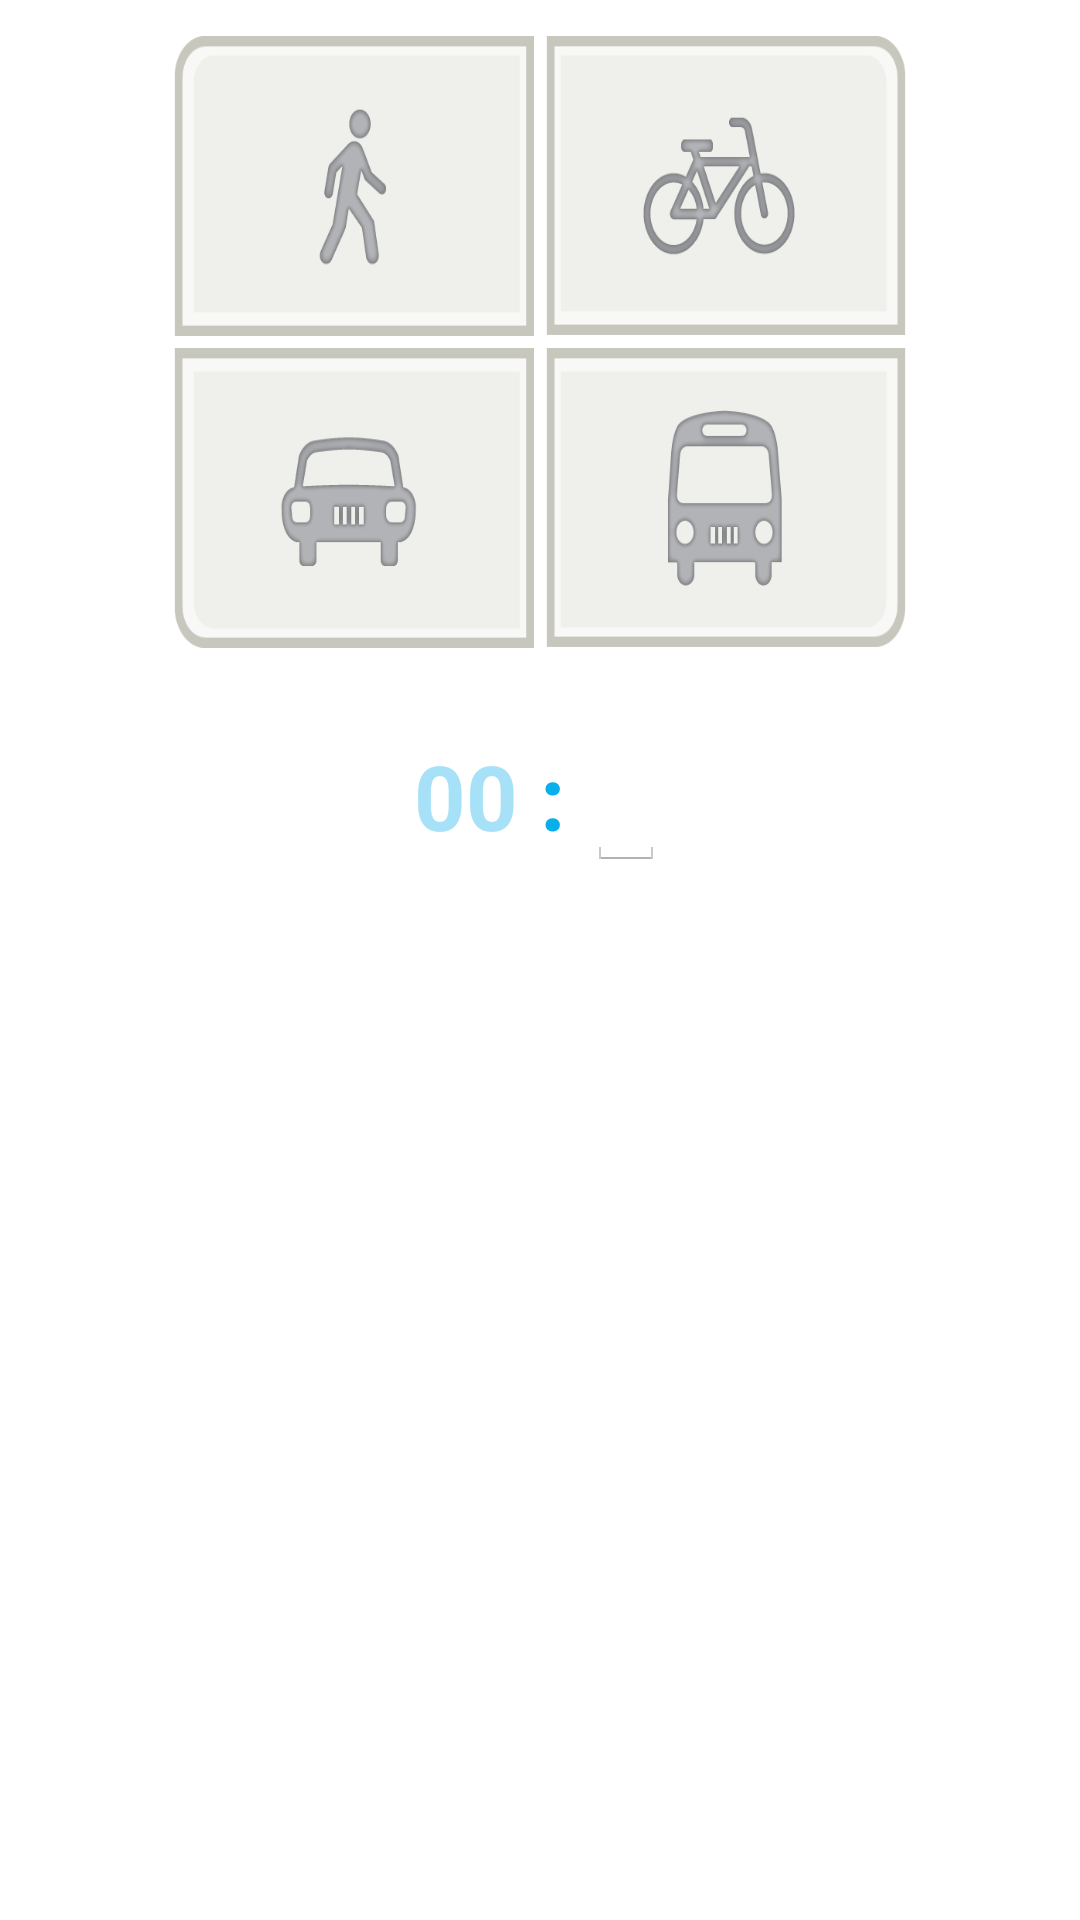

Icons on this 1080*1920 Android screen, each with its box as {"x1": x1, "y1": y1, "x2": x2, "y2": y2}:
transport: {"x1": 174, "y1": 36, "x2": 534, "y2": 336}, {"x1": 546, "y1": 36, "x2": 906, "y2": 335}, {"x1": 174, "y1": 348, "x2": 534, "y2": 648}, {"x1": 546, "y1": 348, "x2": 906, "y2": 647}
